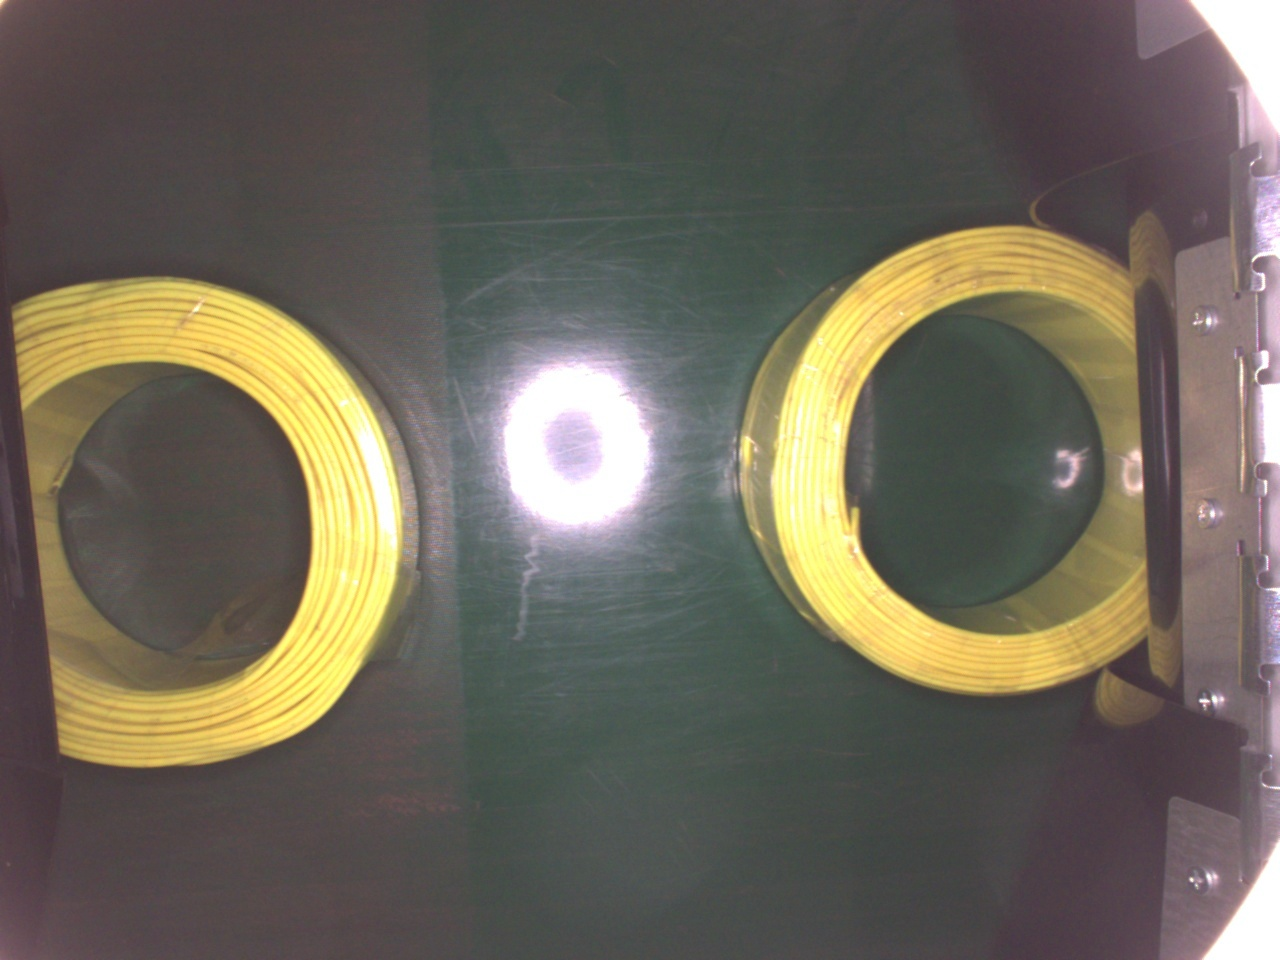yellow: (9, 275, 422, 768), (742, 216, 1153, 697)
